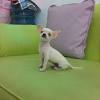Bulldog: (27, 21, 89, 82)
